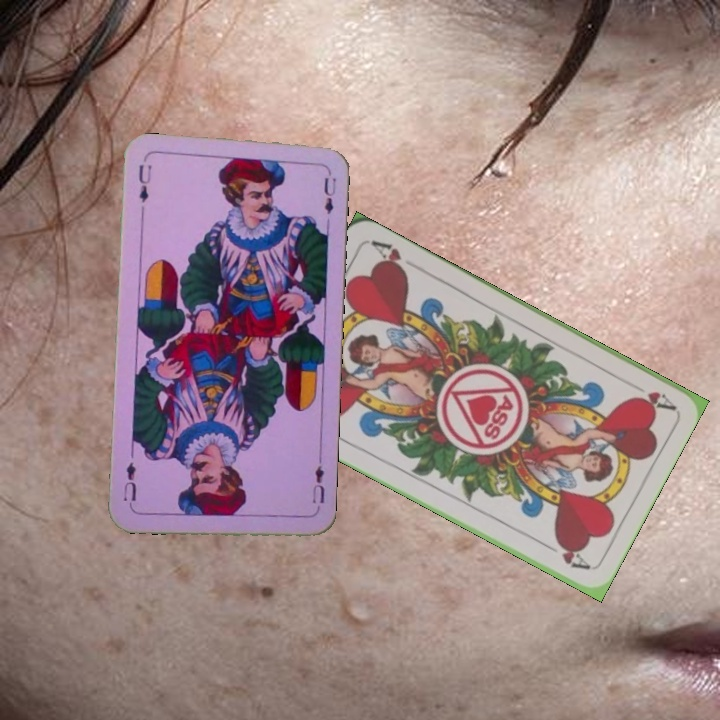EU: (308, 455, 327, 514), (135, 161, 154, 205)
HA: (630, 387, 677, 413)
